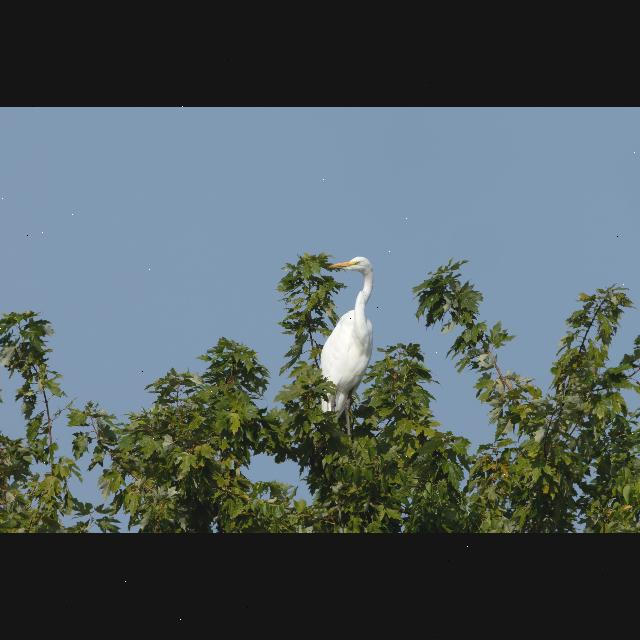egret: (310, 247, 382, 418)
